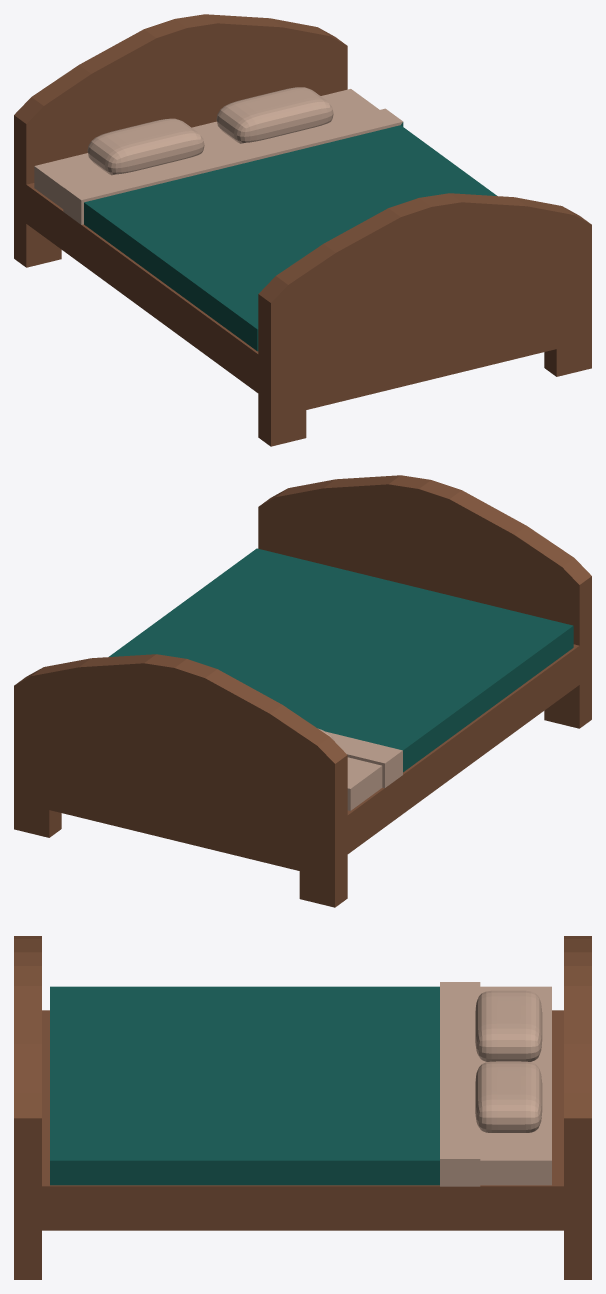
The model's file is Bed.fbx.
3 views of the same model, one above another, from view 1: azimuth 30°, elevation 25°; view 2: azimuth 150°, elevation 25°; view 3: azimuth 270°, elevation 25° (orthographic). The views are drawn at different scales.
Visible parts, largest first — view 1: Bed, Bed Sheets, Pillow, Pillow 2; view 2: Bed, Bed Sheets; view 3: Bed Sheets, Bed, Pillow 2, Pillow.
Part boxes in pixels (bbox=[...]): Bed: bbox=[14, 14, 591, 446]; Bed Sheets: bbox=[34, 89, 496, 351]; Pillow: bbox=[87, 118, 204, 175]; Pillow 2: bbox=[216, 87, 333, 143]; Bed: bbox=[14, 475, 591, 907]; Bed Sheets: bbox=[109, 548, 573, 810]; Bed Sheets: bbox=[50, 982, 551, 1186]; Bed: bbox=[14, 936, 591, 1279]; Pillow 2: bbox=[475, 1061, 542, 1132]; Pillow: bbox=[475, 990, 542, 1061].
Size of the model in its own units: 100 by 59.7 by 139.
